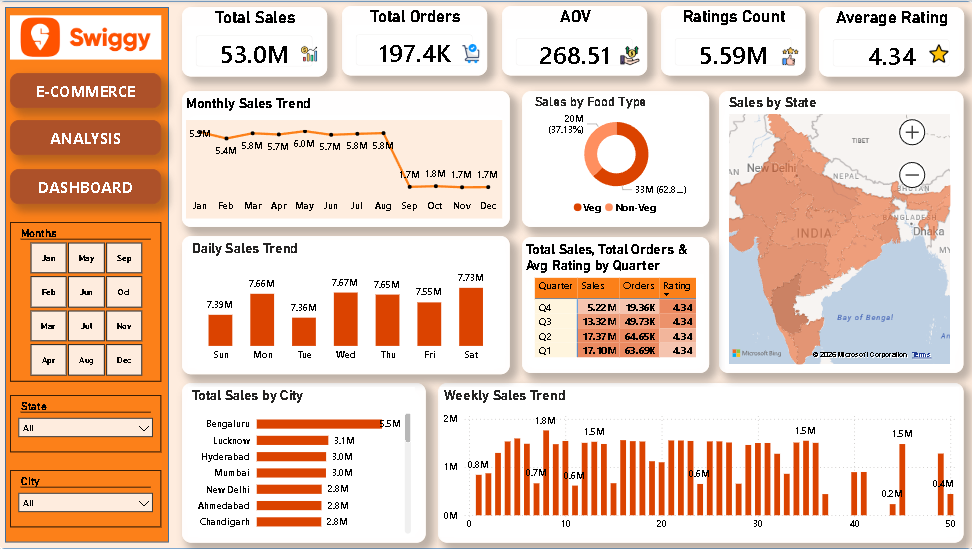

Layout of this report page (visuals, bound fields, positions):
{"tool":"powerbi","page":{"name":"Page 1","canvas":[1280,720],"ordinal":0},"visuals":[{"type":"shape","box":[0,0,1279.8,720],"z":0},{"type":"cardVisual","title":"Ratings Count","fields":{"Data":["Swiggy Data.Ratings Count"]},"box":[869.9,8,189,91],"z":1000},{"type":"cardVisual","title":"AOV","fields":{"Data":["Swiggy Data.Average Order Value"]},"box":[661.2,8,189.6,91],"z":2000},{"type":"shape","box":[10.3,8.8,214.5,700.9],"z":3000},{"type":"cardVisual","title":"Average Rating","fields":{"Data":["Swiggy Data.Average Rating"]},"box":[1075.6,8.8,189.6,91],"z":4000},{"type":"cardVisual","title":"Total Orders","fields":{"Data":["Swiggy Data.Total Orders"]},"box":[451.1,8,189.6,91],"z":5000},{"type":"cardVisual","title":"Total Sales","fields":{"Data":["Swiggy Data.Total Sales"]},"box":[242.4,8.8,189.6,91.1],"z":6000},{"type":"image","box":[398.2,54.4,20.6,30.9],"z":7000},{"type":"image","box":[1213.7,57.3,39.7,25],"z":8000},{"type":"image","box":[809.6,60.2,39.7,25],"z":9000},{"type":"image","box":[1016.8,61.7,42.6,23.5],"z":10000},{"type":"image","box":[601,57.3,39.7,25],"z":11000},{"type":"image","box":[17.6,17.6,198.4,64.7],"z":12000},{"type":"shape","title":"Monthly Sales Trend","box":[242.4,119,429.1,177.8],"z":13000},{"type":"lineChart","title":"Monthly Sales Trend","fields":{"Category":["Swiggy Data.Months"],"Y":["Swiggy Data.Total Sales"]},"box":[246.9,157.2,414.4,129.3],"z":14000},{"type":"shape","box":[577.5,501.1,687.7,208.7],"z":15000},{"type":"shape","title":"Sales by Food Type","box":[687.7,119,245.4,177.8],"z":16000},{"type":"shape","box":[944.8,119,320.3,368.8],"z":17000},{"type":"shape","box":[242.4,501.1,318.9,208.7],"z":18000},{"type":"shape","box":[242.4,308.6,429.1,180.7],"z":19000},{"type":"shape","title":"Total Sales, Total Orders & Avg Rating by Quarter","box":[687.7,310,245.4,177.8],"z":20000},{"type":"donutChart","title":"Sales by Food Type","fields":{"Y":["Swiggy Data.Total Sales"],"Category":["Swiggy Data.Food Type"]},"box":[698.5,123.5,223.5,167.6],"z":21000},{"type":"clusteredColumnChart","title":"Daily Sales Trend","fields":{"Category":["Swiggy Data.Day"],"Y":["Swiggy Data.Total Sales"]},"box":[250,314.7,414.7,167.6],"z":22000},{"type":"pivotTable","fields":{"Rows":["Swiggy Data.Quarter"],"Values":["Swiggy Data.Total Sales","Swiggy Data.Total Orders","Avg(Swiggy Data.Rating)"]},"box":[698.5,358.8,226.5,114.7],"z":23000},{"type":"filledMap","title":"Sales by State","fields":{"Category":["Swiggy Data.State"]},"box":[952.9,123.5,300,358.8],"z":24000},{"type":"clusteredBarChart","fields":{"Category":["Swiggy Data.City"],"Y":["Swiggy Data.Total Sales"]},"box":[249.8,506.9,296.8,196.9],"z":25000},{"type":"slicer","fields":{"Values":["Swiggy Data.Months"]},"box":[17.6,290.9,198.4,208.7],"z":26000},{"type":"clusteredColumnChart","title":"Weekly Sales Trend","fields":{"Y":["Swiggy Data.Total Sales"],"Category":["Swiggy Data.Week"]},"box":[580.4,506.9,680.3,196.9],"z":27000},{"type":"slicer","fields":{"Values":["Swiggy Data.State"]},"box":[17.6,517.2,198.4,74.9],"z":28000},{"type":"slicer","fields":{"Values":["Swiggy Data.City"]},"box":[17.6,615.7,198.4,74.9],"z":29000},{"type":"shape","title":"DASHBOARD","box":[17.6,95.5,198.4,45.6],"z":30000},{"type":"shape","title":"DASHBOARD","box":[17.6,157.2,198.4,45.6],"z":31000},{"type":"shape","title":"DASHBOARD","box":[17.6,221.9,198.4,45.6],"z":32000}]}

Visuals, with their boxes in screenshot pixels (x1, y1, x2, y2), scaled from the page's 1280x720 canvas onto the 972x549 screenshot:
shape: <region>0, 0, 971, 548</region>
"Ratings Count" cardVisual: <region>661, 6, 804, 75</region>
"AOV" cardVisual: <region>502, 6, 646, 75</region>
shape: <region>8, 7, 171, 541</region>
"Average Rating" cardVisual: <region>817, 7, 961, 76</region>
"Total Orders" cardVisual: <region>343, 6, 487, 75</region>
"Total Sales" cardVisual: <region>184, 7, 328, 76</region>
image: <region>302, 41, 318, 65</region>
image: <region>922, 44, 952, 63</region>
image: <region>615, 46, 645, 65</region>
image: <region>772, 47, 804, 65</region>
image: <region>456, 44, 487, 63</region>
image: <region>13, 13, 164, 63</region>
"Monthly Sales Trend" shape: <region>184, 91, 510, 226</region>
"Monthly Sales Trend" lineChart: <region>187, 120, 502, 218</region>
shape: <region>439, 382, 961, 541</region>
"Sales by Food Type" shape: <region>522, 91, 709, 226</region>
shape: <region>717, 91, 961, 372</region>
shape: <region>184, 382, 426, 541</region>
shape: <region>184, 235, 510, 373</region>
"Total Sales, Total Orders & Avg Rating by Quarter" shape: <region>522, 236, 709, 372</region>
"Sales by Food Type" donutChart: <region>530, 94, 700, 222</region>
"Daily Sales Trend" clusteredColumnChart: <region>190, 240, 505, 368</region>
pivotTable - Swiggy Data.Quarter x Swiggy Data.Total Sales: <region>530, 274, 702, 361</region>
"Sales by State" filledMap: <region>724, 94, 951, 368</region>
clusteredBarChart - Swiggy Data.City x Swiggy Data.Total Sales: <region>190, 387, 415, 537</region>
slicer - Swiggy Data.Months: <region>13, 222, 164, 381</region>
"Weekly Sales Trend" clusteredColumnChart: <region>441, 387, 957, 537</region>
slicer - Swiggy Data.State: <region>13, 394, 164, 451</region>
slicer - Swiggy Data.City: <region>13, 469, 164, 527</region>
"DASHBOARD" shape: <region>13, 73, 164, 108</region>
"DASHBOARD" shape: <region>13, 120, 164, 155</region>
"DASHBOARD" shape: <region>13, 169, 164, 204</region>
